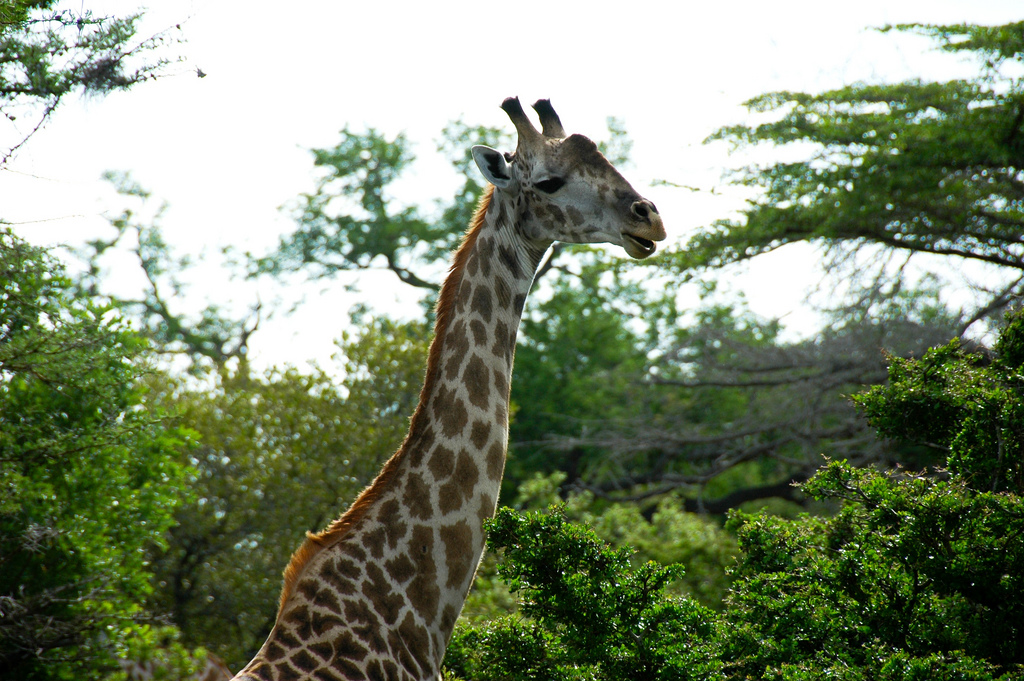giraffe: (293, 98, 678, 629)
